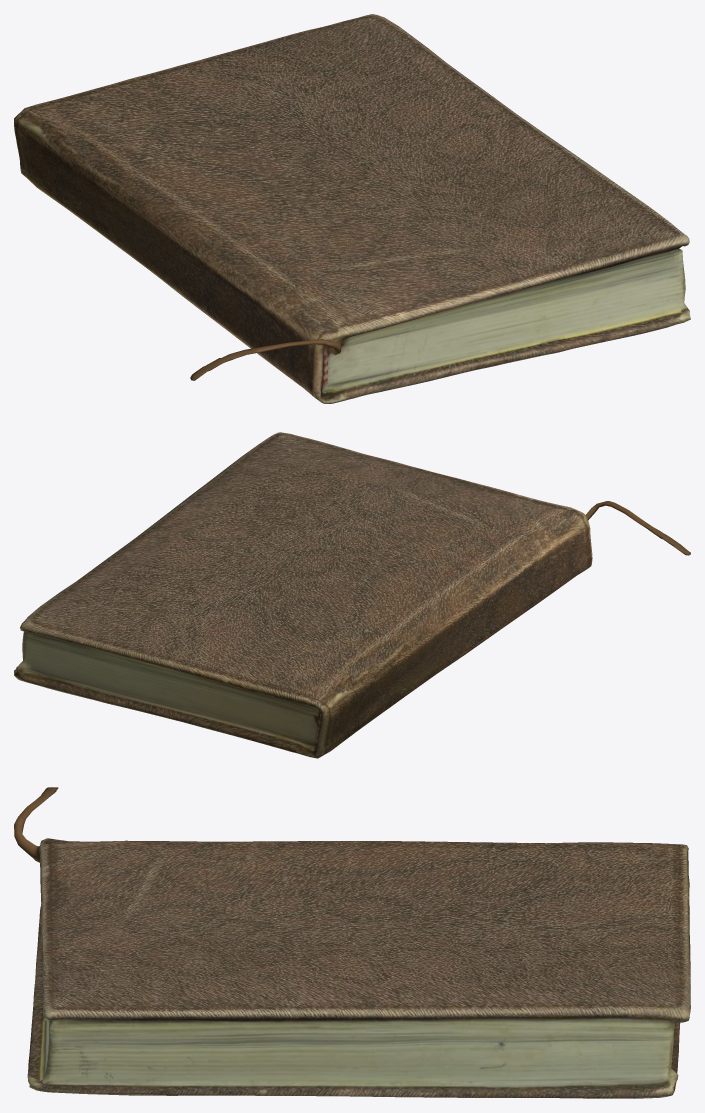
The model's file is writebook_opt.glb.
3 renders of one model, top to bottom at view 1: azimuth 30°, elevation 25°; view 2: azimuth 150°, elevation 25°; view 3: azimuth 270°, elevation 25°, orthographic. The views are drawn at different scales.
Visible parts, largest first — view 1: Object_2; view 2: Object_2; view 3: Object_2.
Part boxes in pixels (x1=…): Object_2: x1=14, y1=14, x2=690, y2=403; Object_2: x1=14, y1=432, x2=690, y2=758; Object_2: x1=14, y1=787, x2=690, y2=1098.
Size of the model in its own units: 18.24 by 3.23 by 20.31.
Materials: 1 (1 with a texture image).
